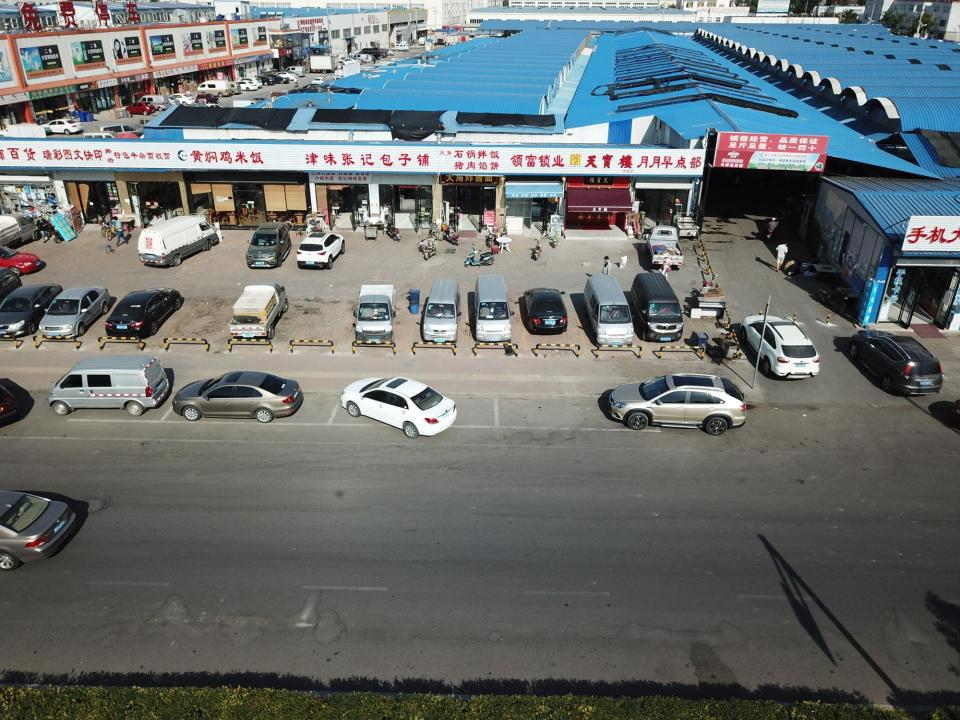car: (599, 373, 750, 438), (334, 374, 456, 439), (845, 324, 945, 399), (166, 368, 304, 422), (738, 311, 824, 382), (98, 287, 184, 340), (36, 282, 112, 341), (1, 272, 64, 340), (518, 281, 573, 336), (245, 222, 292, 268), (295, 230, 346, 272), (43, 118, 83, 136), (122, 101, 155, 115), (154, 94, 180, 110), (200, 101, 224, 118), (168, 93, 196, 106), (244, 96, 271, 109), (231, 79, 258, 92), (196, 93, 221, 106), (264, 72, 291, 84), (240, 76, 263, 89), (273, 70, 297, 82), (251, 76, 275, 86), (273, 68, 295, 78), (310, 76, 331, 86), (390, 44, 399, 52)
truck: (224, 278, 296, 342), (355, 281, 397, 343), (647, 224, 683, 266), (0, 213, 41, 246)
van: (43, 354, 169, 421), (137, 213, 220, 268), (626, 270, 682, 344), (581, 270, 632, 350), (468, 272, 515, 344), (421, 276, 463, 341), (95, 120, 146, 145), (80, 129, 123, 152), (194, 80, 231, 99), (231, 97, 266, 117), (138, 94, 170, 111), (269, 88, 298, 105), (218, 79, 243, 95), (282, 65, 306, 79), (324, 74, 344, 86), (378, 46, 394, 56), (394, 44, 410, 52), (418, 36, 428, 47), (448, 43, 460, 52)
